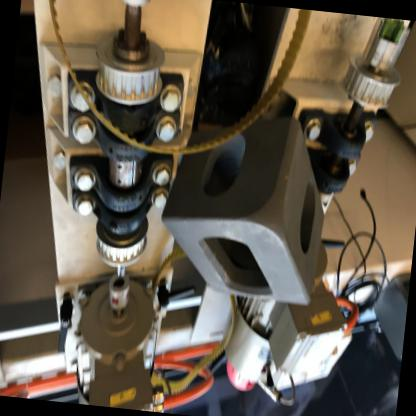CornerCasting: (154, 106, 344, 310)
